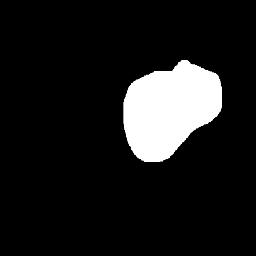mass: (130, 67, 223, 157)
